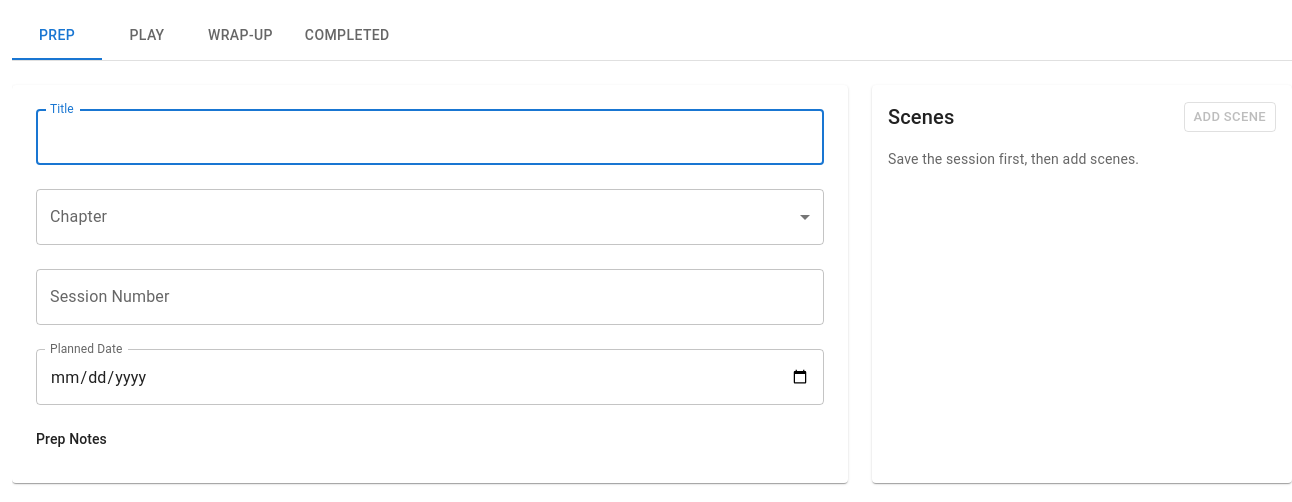
Test: SessionEditorPage › shows placeholder for Completed tab
The width and height of the screenshot is (1292, 502).
Click the tab "Completed": (347, 36) [289,12,406,60]
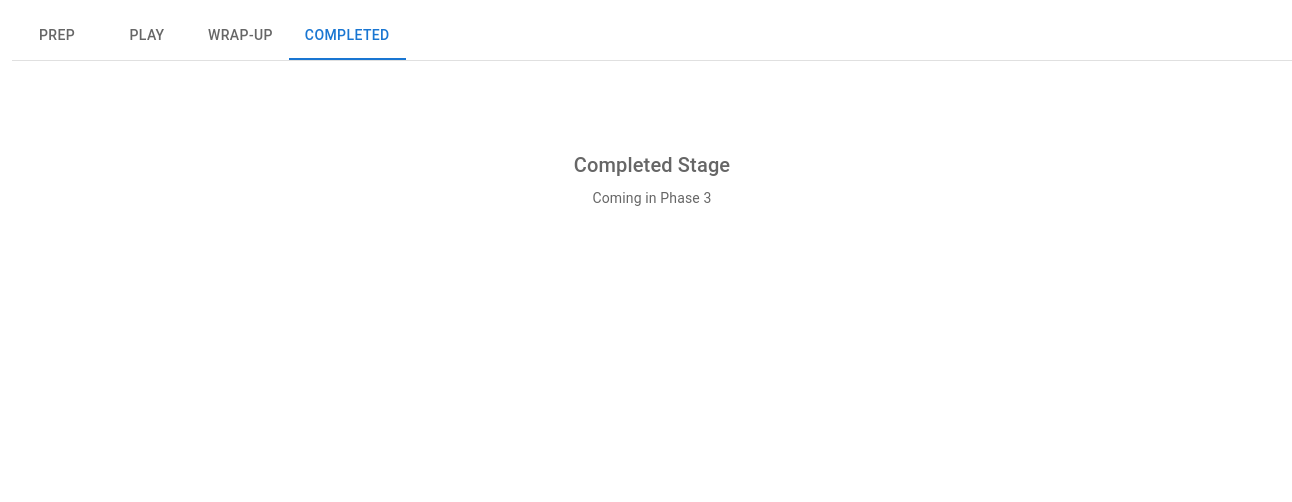
Expected: the heading "Completed Stage" is shown, [574,149,730,181]
Expected: the text "Coming in Phase 3" is shown, [592,188,712,208]
